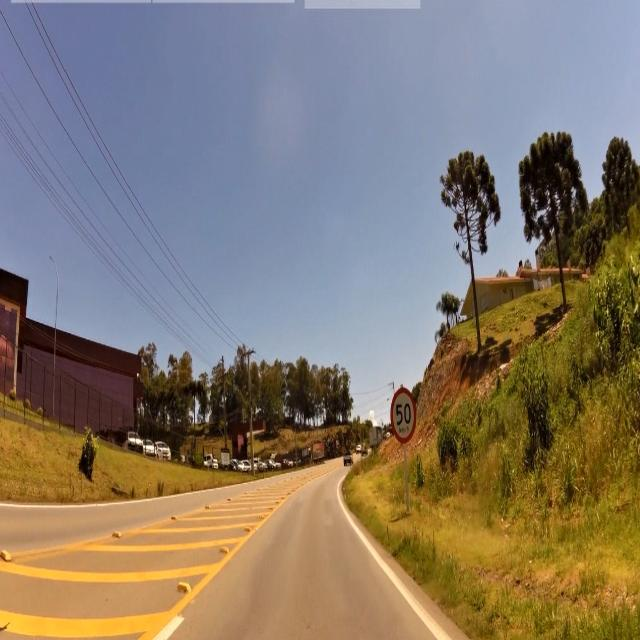R-19: (389, 383, 420, 448)
